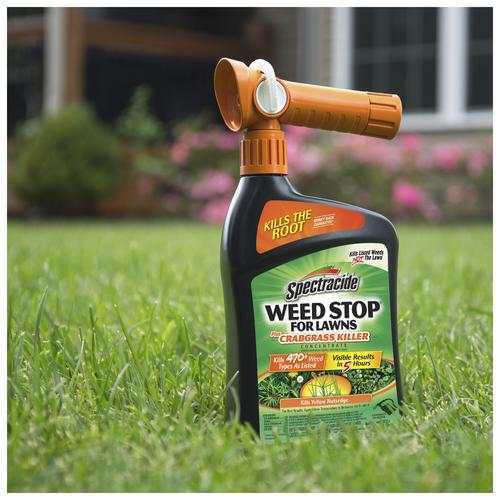crabgrass: (35, 321, 205, 433), (301, 377, 348, 401)
